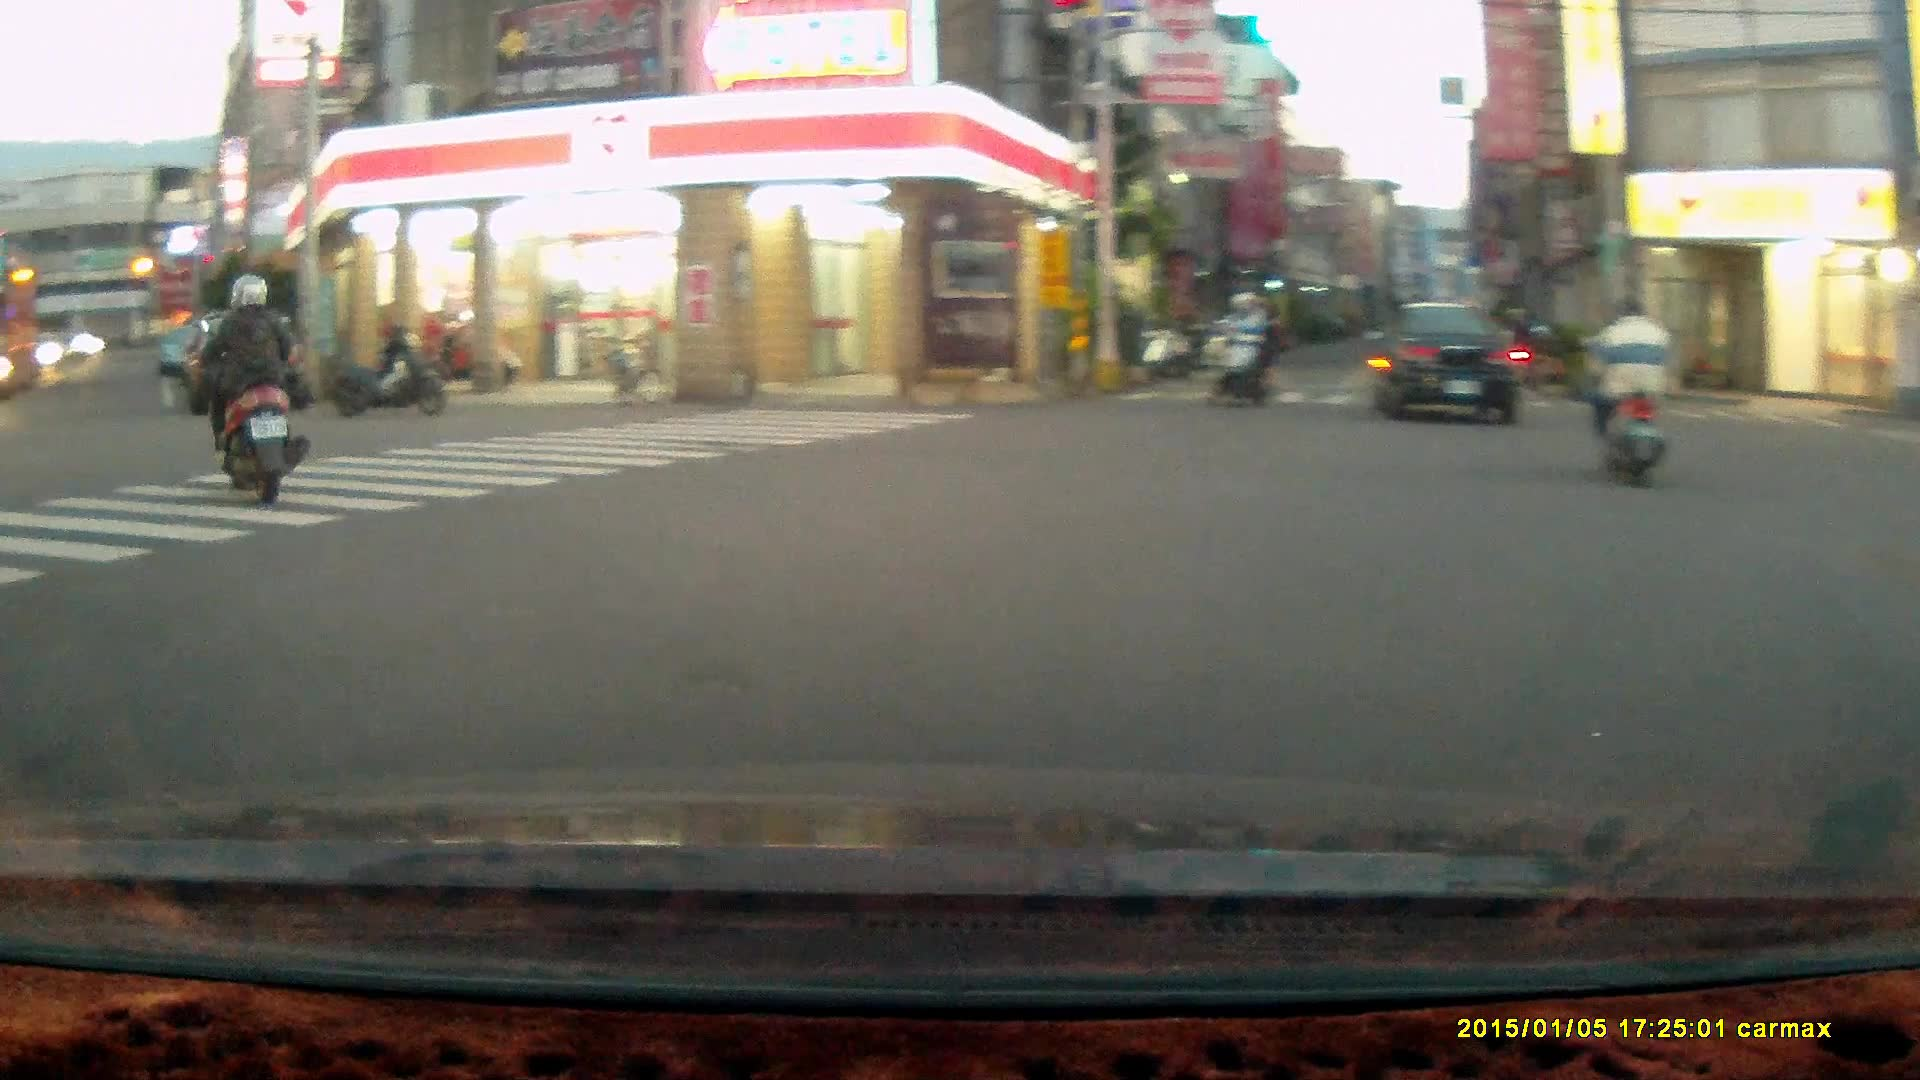rider: (197, 273, 309, 502), (1582, 291, 1677, 490), (1205, 286, 1274, 411)
vehicle: (1370, 300, 1528, 423), (180, 304, 311, 407)
